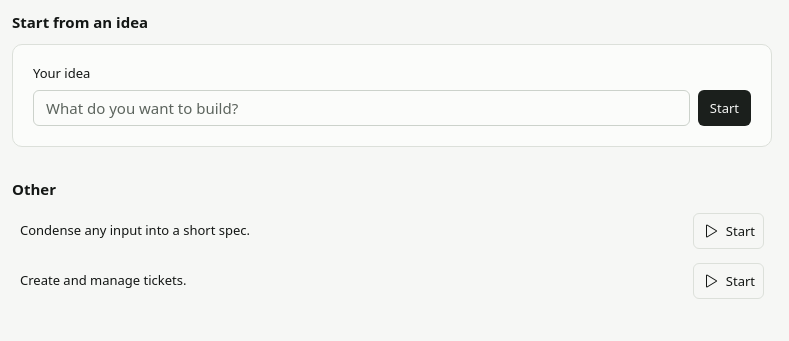
Plan home (story 4.6) › a refused idea says why under the field, keeps the idea, and frees Start
Type "A pottery site" into the field labelled "Your idea" at (361, 108), box [33,90,690,126]
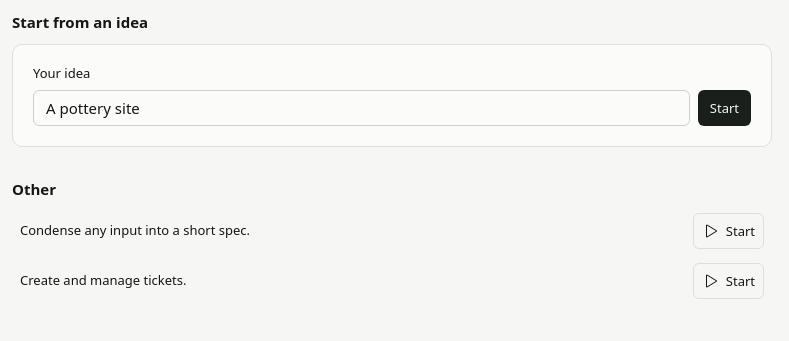
Submit the form labelled "Your idea", box [12,44,772,147]
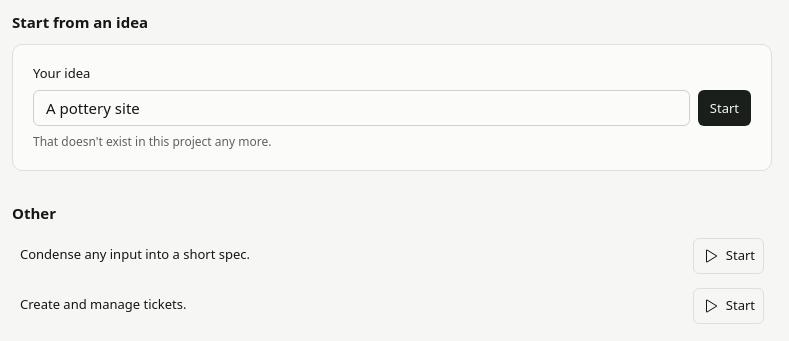
Check: the message with test id "plan-idea-error" reads "That doesn't exist in this project any more.", box [33,133,271,150]
